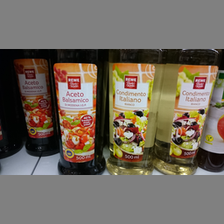vinegar: (106, 50, 164, 177), (159, 49, 217, 174), (50, 58, 108, 175), (10, 53, 58, 157)
